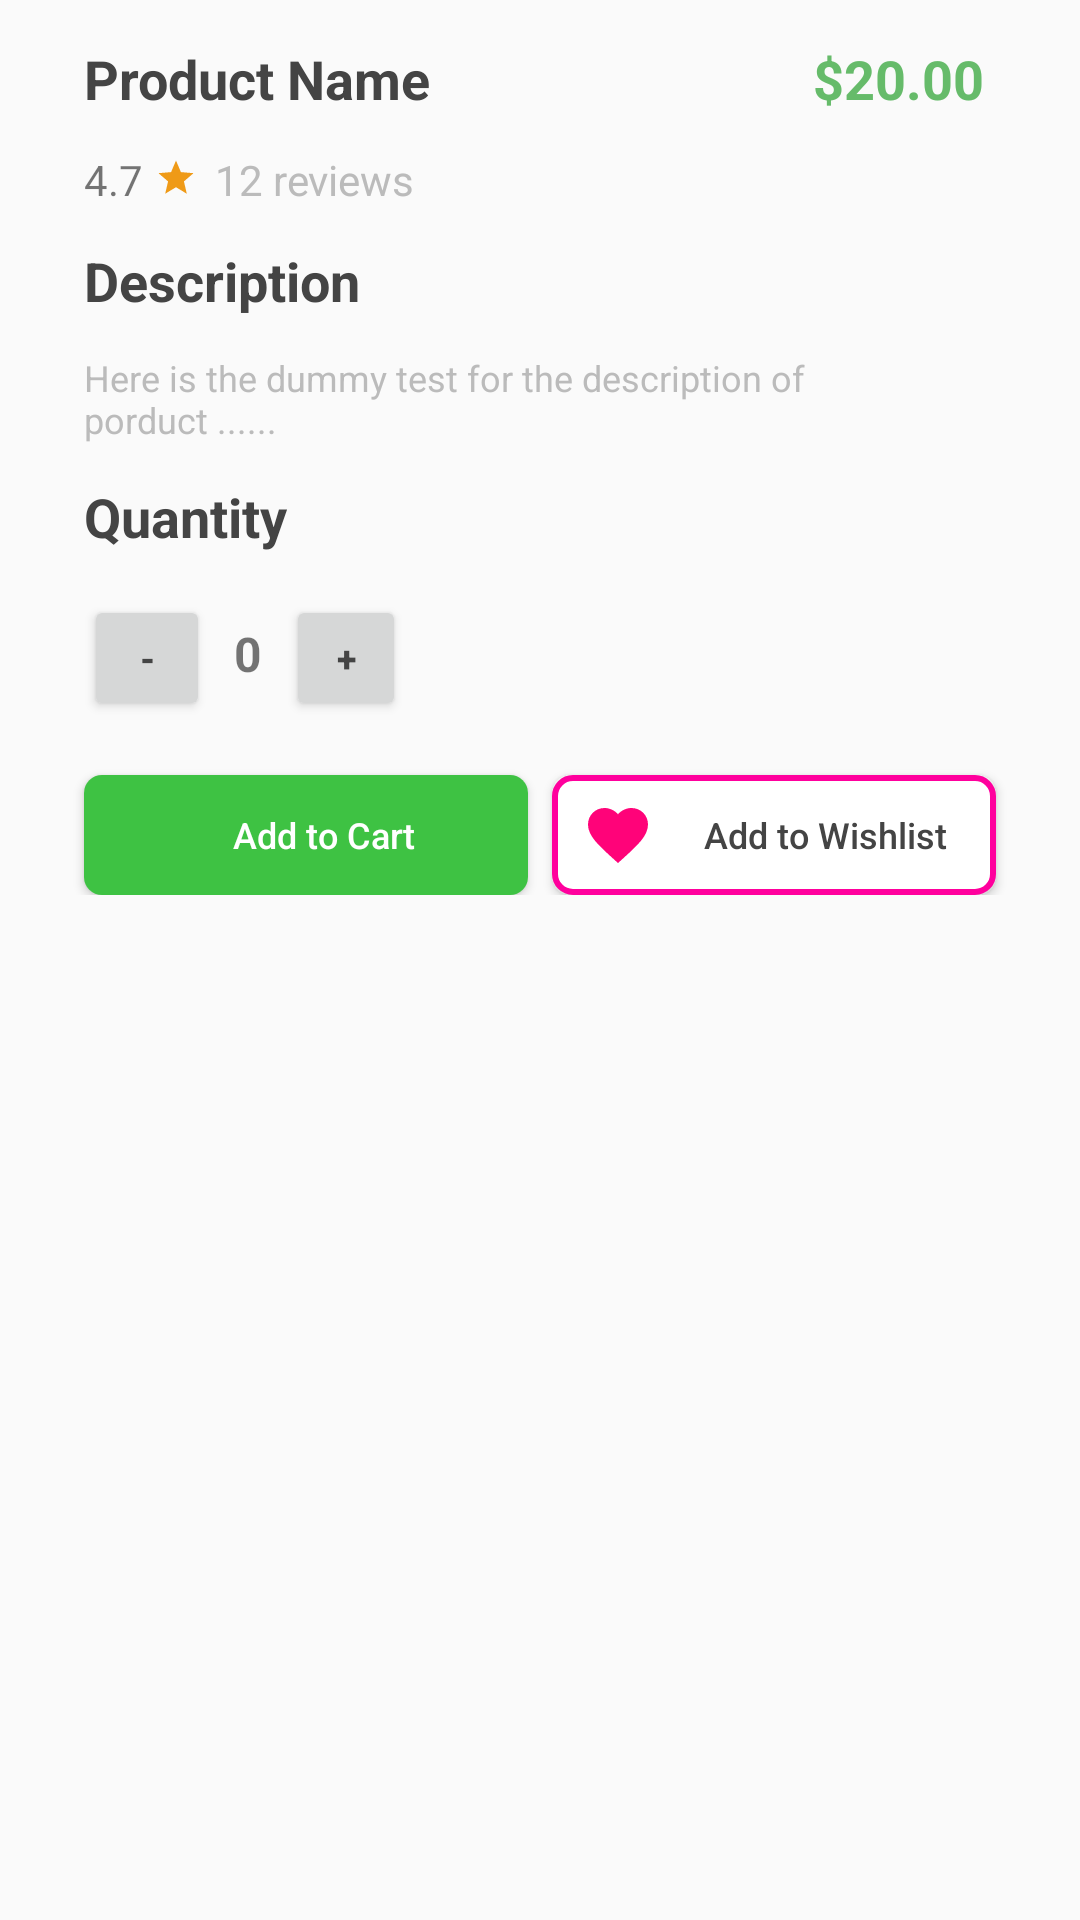

Point at icon controls on the screen. Image size 1080x1920, points as [x,y].
star: [176,177]
